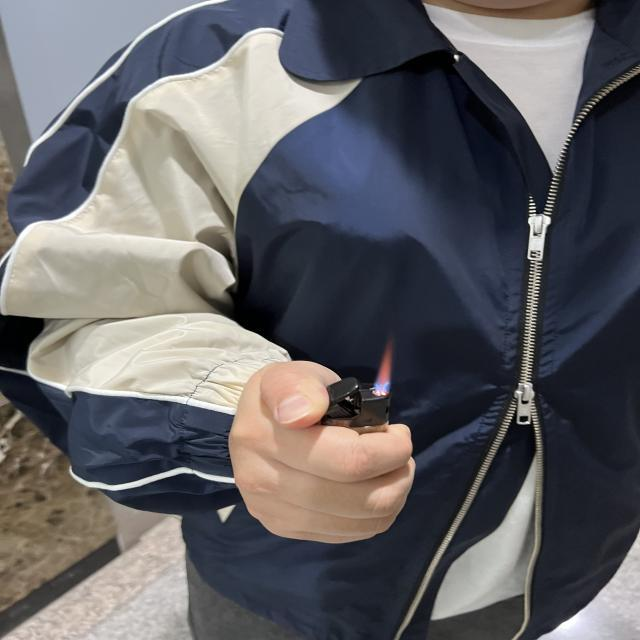fire: (371, 349, 394, 388)
